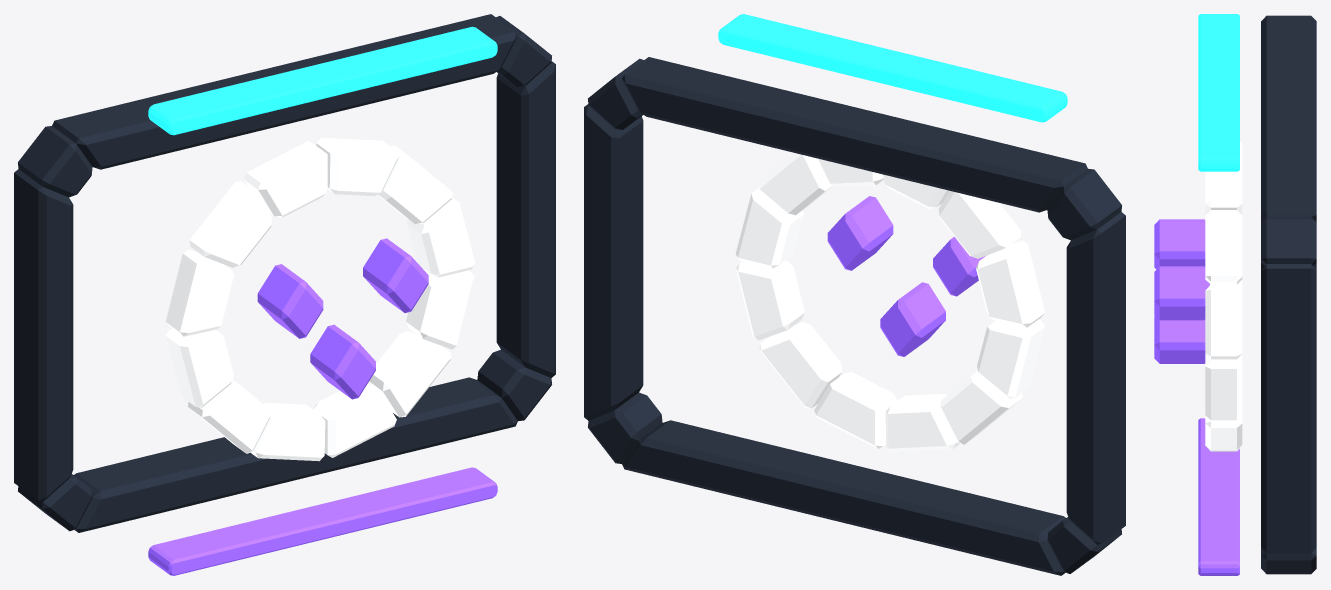
Rendered from tech-bun.glb.
3 renders of one model, left to right at view 1: azimuth 30°, elevation 25°; view 2: azimuth 150°, elevation 25°; view 3: azimuth 270°, elevation 25°, orthographic. The views are drawn at different scales.
Parts seen in each view (by area): view 1: tech-bun_SystemMaterial, tech-bun_LabelMaterial, tech-bun_AccentMaterial, tech-bun_SignalMaterial; view 2: tech-bun_SystemMaterial, tech-bun_LabelMaterial, tech-bun_SignalMaterial, tech-bun_AccentMaterial; view 3: tech-bun_SystemMaterial, tech-bun_AccentMaterial, tech-bun_LabelMaterial, tech-bun_SignalMaterial.
Boxes of the visible parts, x1,y1,x2,y2 form: tech-bun_SystemMaterial: (14, 14, 555, 532); tech-bun_LabelMaterial: (165, 137, 475, 461); tech-bun_AccentMaterial: (148, 238, 497, 575); tech-bun_SignalMaterial: (148, 26, 497, 135); tech-bun_SystemMaterial: (584, 57, 1125, 575); tech-bun_LabelMaterial: (735, 153, 1045, 452); tech-bun_SignalMaterial: (718, 14, 1067, 122); tech-bun_AccentMaterial: (827, 196, 986, 356); tech-bun_SystemMaterial: (1261, 15, 1316, 574); tech-bun_AccentMaterial: (1154, 219, 1239, 575); tech-bun_LabelMaterial: (1205, 142, 1242, 451); tech-bun_SignalMaterial: (1198, 14, 1239, 171).
Size of the model in its own units: 1.18 by 0.995 by 0.35.
